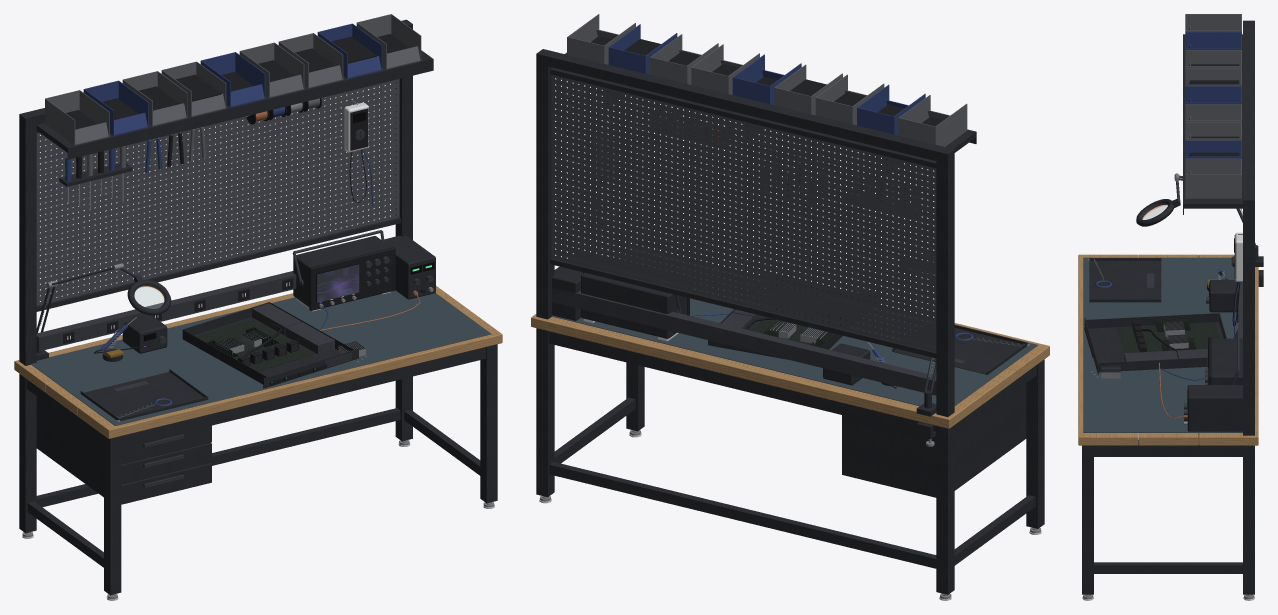
Rendered from hardware_bench.glb.
3 views of the same model, side by side, from view 1: azimuth 30°, elevation 25°; view 2: azimuth 150°, elevation 25°; view 3: azimuth 270°, elevation 25° (orthographic). The views are drawn at different scales.
Visible parts, largest first — view 1: part_pegboard_LOD0, part_frame_LOD0, part_bins_LOD0, part_mat_LOD0, part_blade_LOD0, part_top_LOD0, part_shelf_LOD0, part_scope_LOD0, part_tools_LOD0, part_power_rail_LOD0, part_blade_lid_LOD0, part_bench_supply_LOD0 (+6 smaller); view 2: part_pegboard_LOD0, part_frame_LOD0, part_bins_LOD0, part_top_LOD0, part_mat_LOD0, part_power_rail_LOD0, part_scope_LOD0, part_blade_lid_LOD0, part_blade_LOD0, part_bench_supply_LOD0, part_lamp_LOD0, part_station_LOD0; view 3: part_mat_LOD0, part_frame_LOD0, part_bins_LOD0, part_blade_LOD0, part_top_LOD0, part_blade_lid_LOD0, part_bench_supply_LOD0, part_scope_LOD0, part_shelf_LOD0, part_lamp_LOD0, part_station_LOD0, part_tools_LOD0 (+1 smaller).
Boxes of the visible parts, left/top/right/bottom form: part_pegboard_LOD0: left=36, top=79, right=400, bottom=311; part_frame_LOD0: left=19, top=19, right=497, bottom=600; part_bins_LOD0: left=45, top=14, right=421, bottom=145; part_mat_LOD0: left=31, top=290, right=490, bottom=425; part_blade_LOD0: left=182, top=302, right=366, bottom=388; part_top_LOD0: left=14, top=286, right=502, bottom=438; part_shelf_LOD0: left=36, top=50, right=433, bottom=159; part_scope_LOD0: left=292, top=230, right=395, bottom=329; part_tools_LOD0: left=59, top=96, right=373, bottom=210; part_power_rail_LOD0: left=36, top=271, right=296, bottom=351; part_blade_lid_LOD0: left=80, top=369, right=208, bottom=420; part_bench_supply_LOD0: left=319, top=235, right=435, bottom=330; part_pegboard_LOD0: left=550, top=67, right=936, bottom=358; part_frame_LOD0: left=536, top=49, right=1044, bottom=600; part_bins_LOD0: left=567, top=14, right=967, bottom=146; part_top_LOD0: left=531, top=248, right=1049, bottom=428; part_mat_LOD0: left=552, top=250, right=1037, bottom=405; part_power_rail_LOD0: left=552, top=287, right=936, bottom=395; part_scope_LOD0: left=581, top=260, right=729, bottom=341; part_blade_lid_LOD0: left=892, top=322, right=1027, bottom=374; part_blade_LOD0: left=708, top=275, right=875, bottom=359; part_bench_supply_LOD0: left=552, top=254, right=699, bottom=320; part_lamp_LOD0: left=904, top=254, right=936, bottom=446; part_station_LOD0: left=823, top=341, right=896, bottom=388; part_mat_LOD0: left=1083, top=257, right=1242, bottom=432; part_frame_LOD0: left=1082, top=20, right=1254, bottom=600; part_bins_LOD0: left=1185, top=14, right=1241, bottom=198; part_blade_LOD0: left=1084, top=313, right=1226, bottom=378; part_top_LOD0: left=1078, top=254, right=1258, bottom=445; part_blade_lid_LOD0: left=1089, top=258, right=1161, bottom=302; part_bench_supply_LOD0: left=1158, top=363, right=1242, bottom=431; part_scope_LOD0: left=1161, top=330, right=1242, bottom=384; part_shelf_LOD0: left=1183, top=34, right=1242, bottom=214; part_lamp_LOD0: left=1136, top=173, right=1263, bottom=286; part_station_LOD0: left=1206, top=267, right=1238, bottom=312; part_tools_LOD0: left=1231, top=232, right=1242, bottom=338.
Size of what is drawn, in the model's own units: 1.8 by 1.91 by 0.77.
23 materials, 16 textured.
